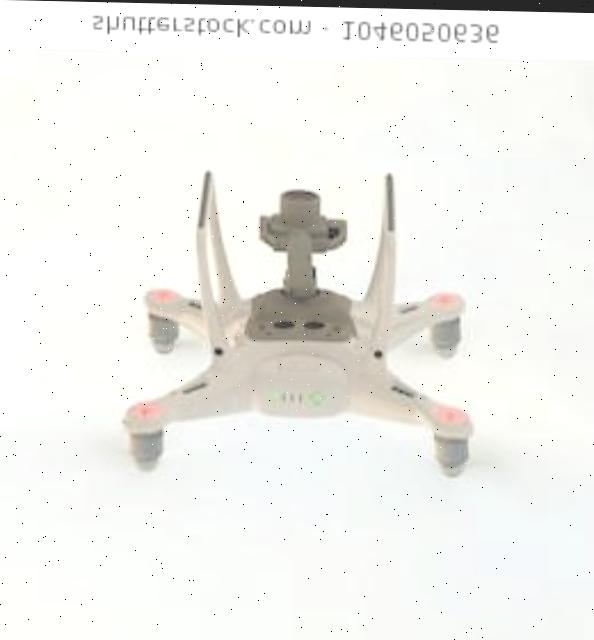drone: (45, 128, 547, 542)
